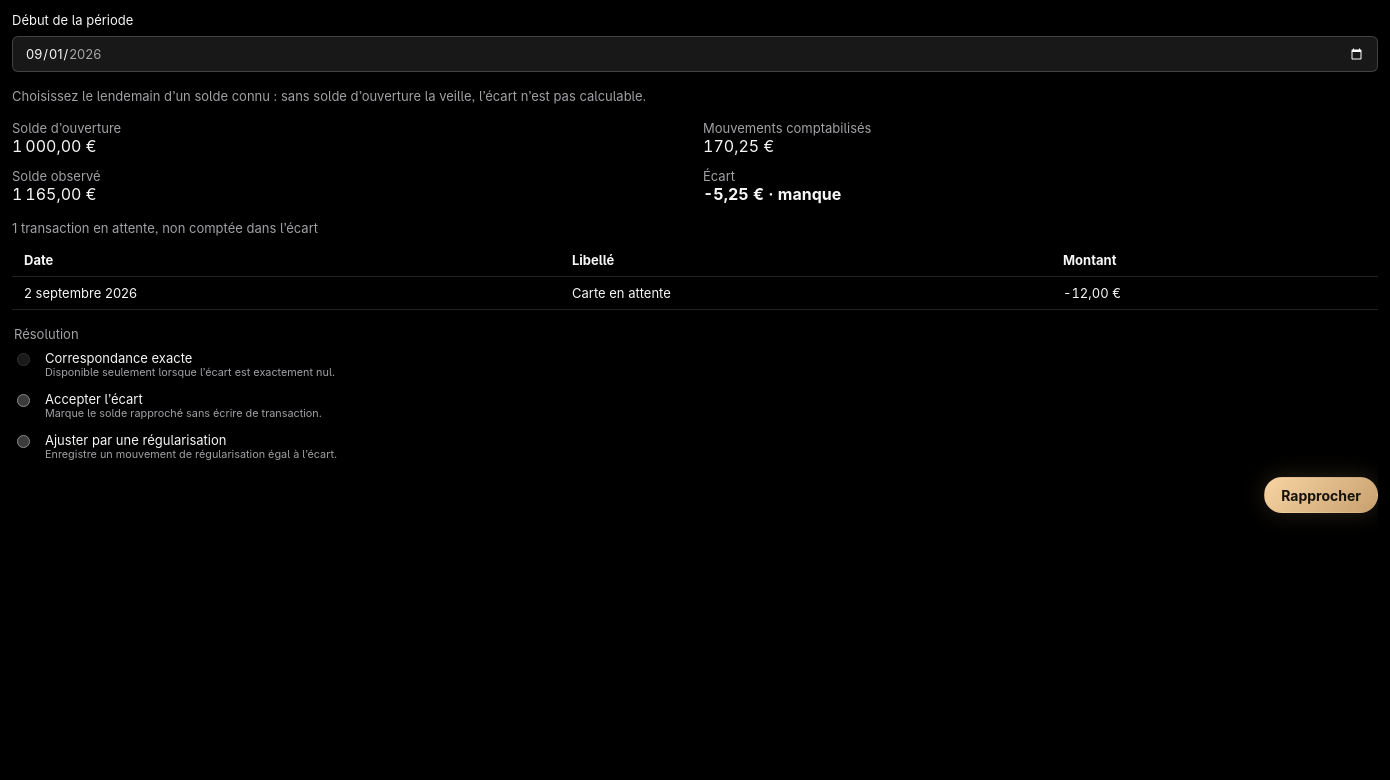
Scenario: ReconciliationPanel › asks for a reload when the snapshot version is stale
The width and height of the screenshot is (1390, 780).
Expected: the element with test id "discrepancy" is shown, x1=703 y1=184 x2=841 y2=204
Click the radio button labelled "Ajuster" at [24, 442], box x1=17 y1=435 x2=30 y2=448
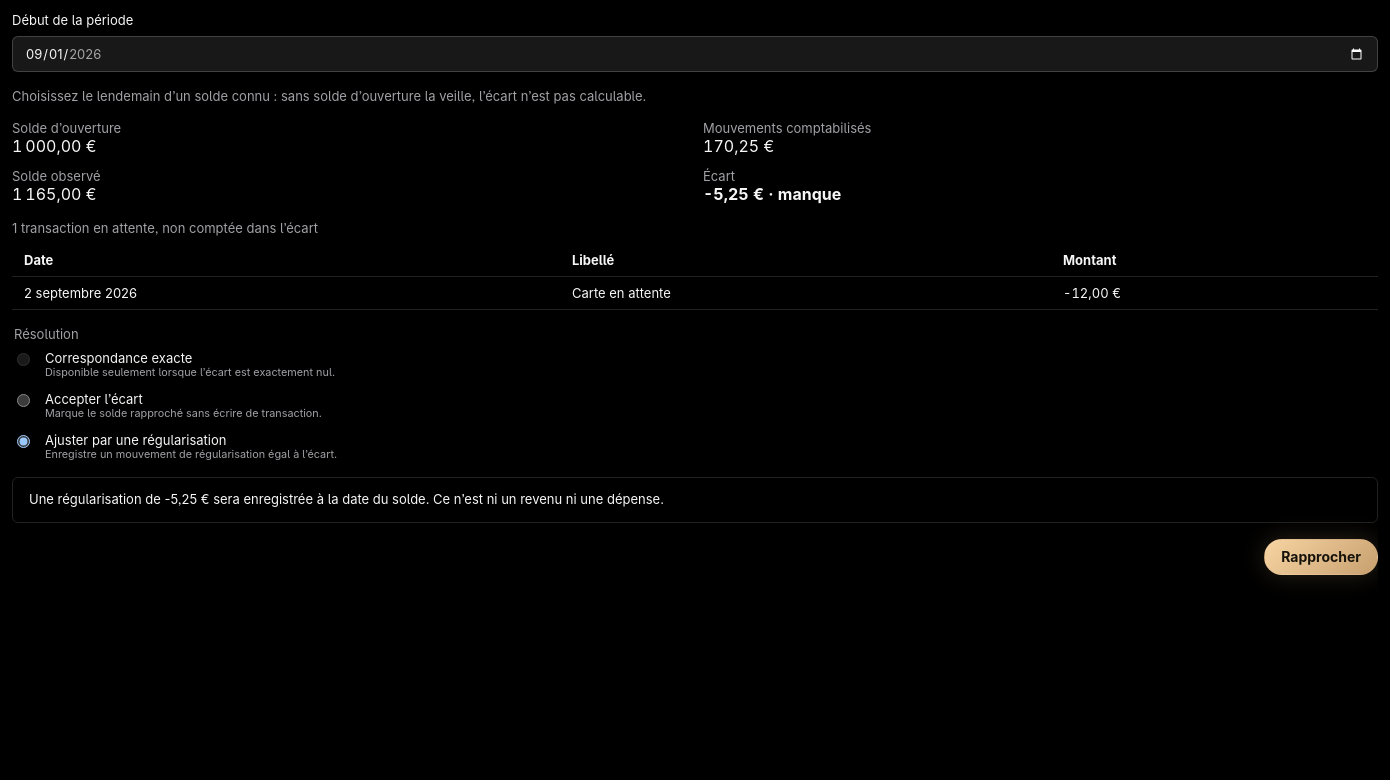
Click the button "Rapprocher" at [1321, 556], box x1=1264 y1=538 x2=1378 y2=574
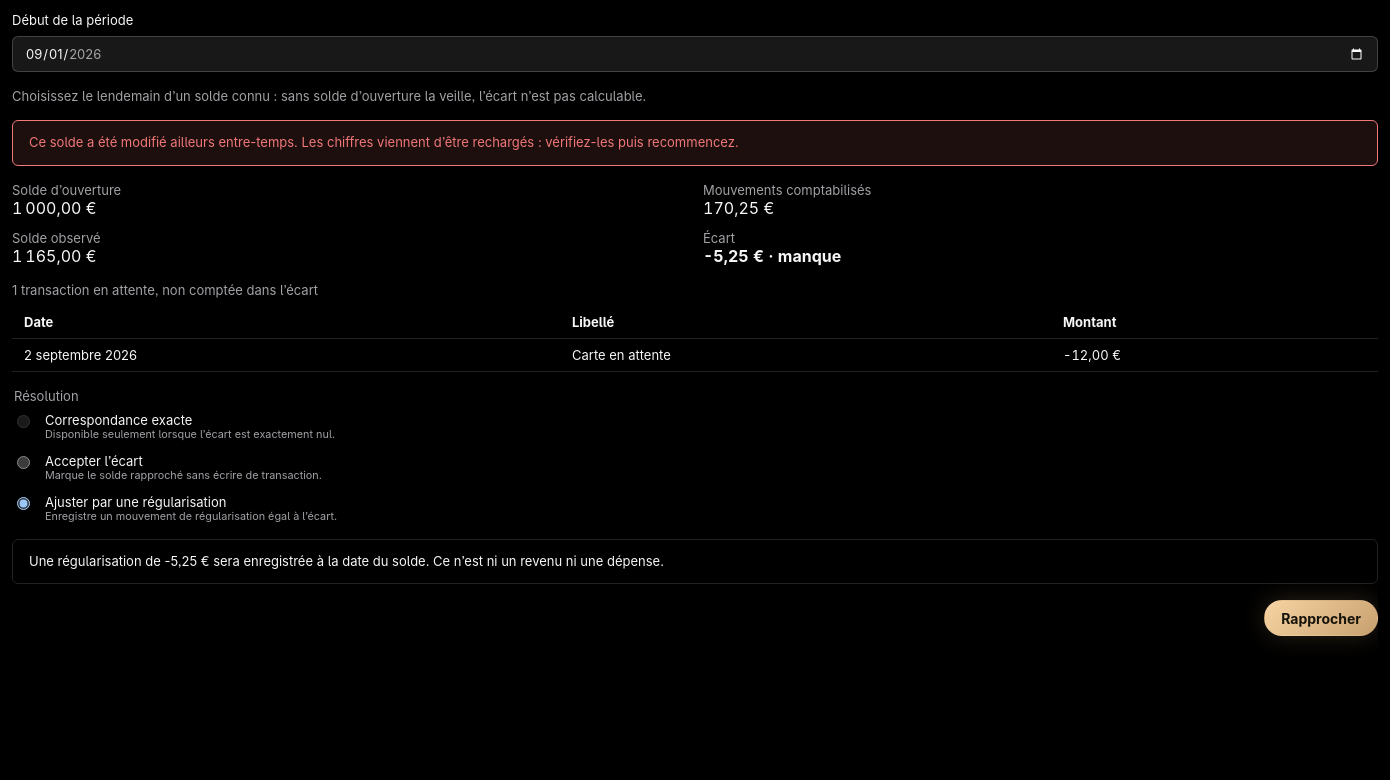
Result: the message shows "modifié" at x1=29 y1=134 x2=739 y2=150
